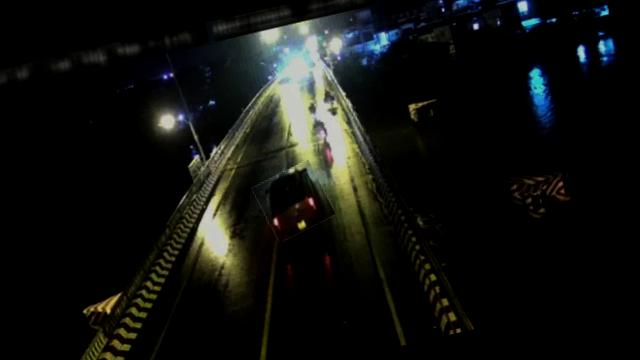Bike: (304, 98, 318, 120)
Car: (252, 160, 336, 243)
